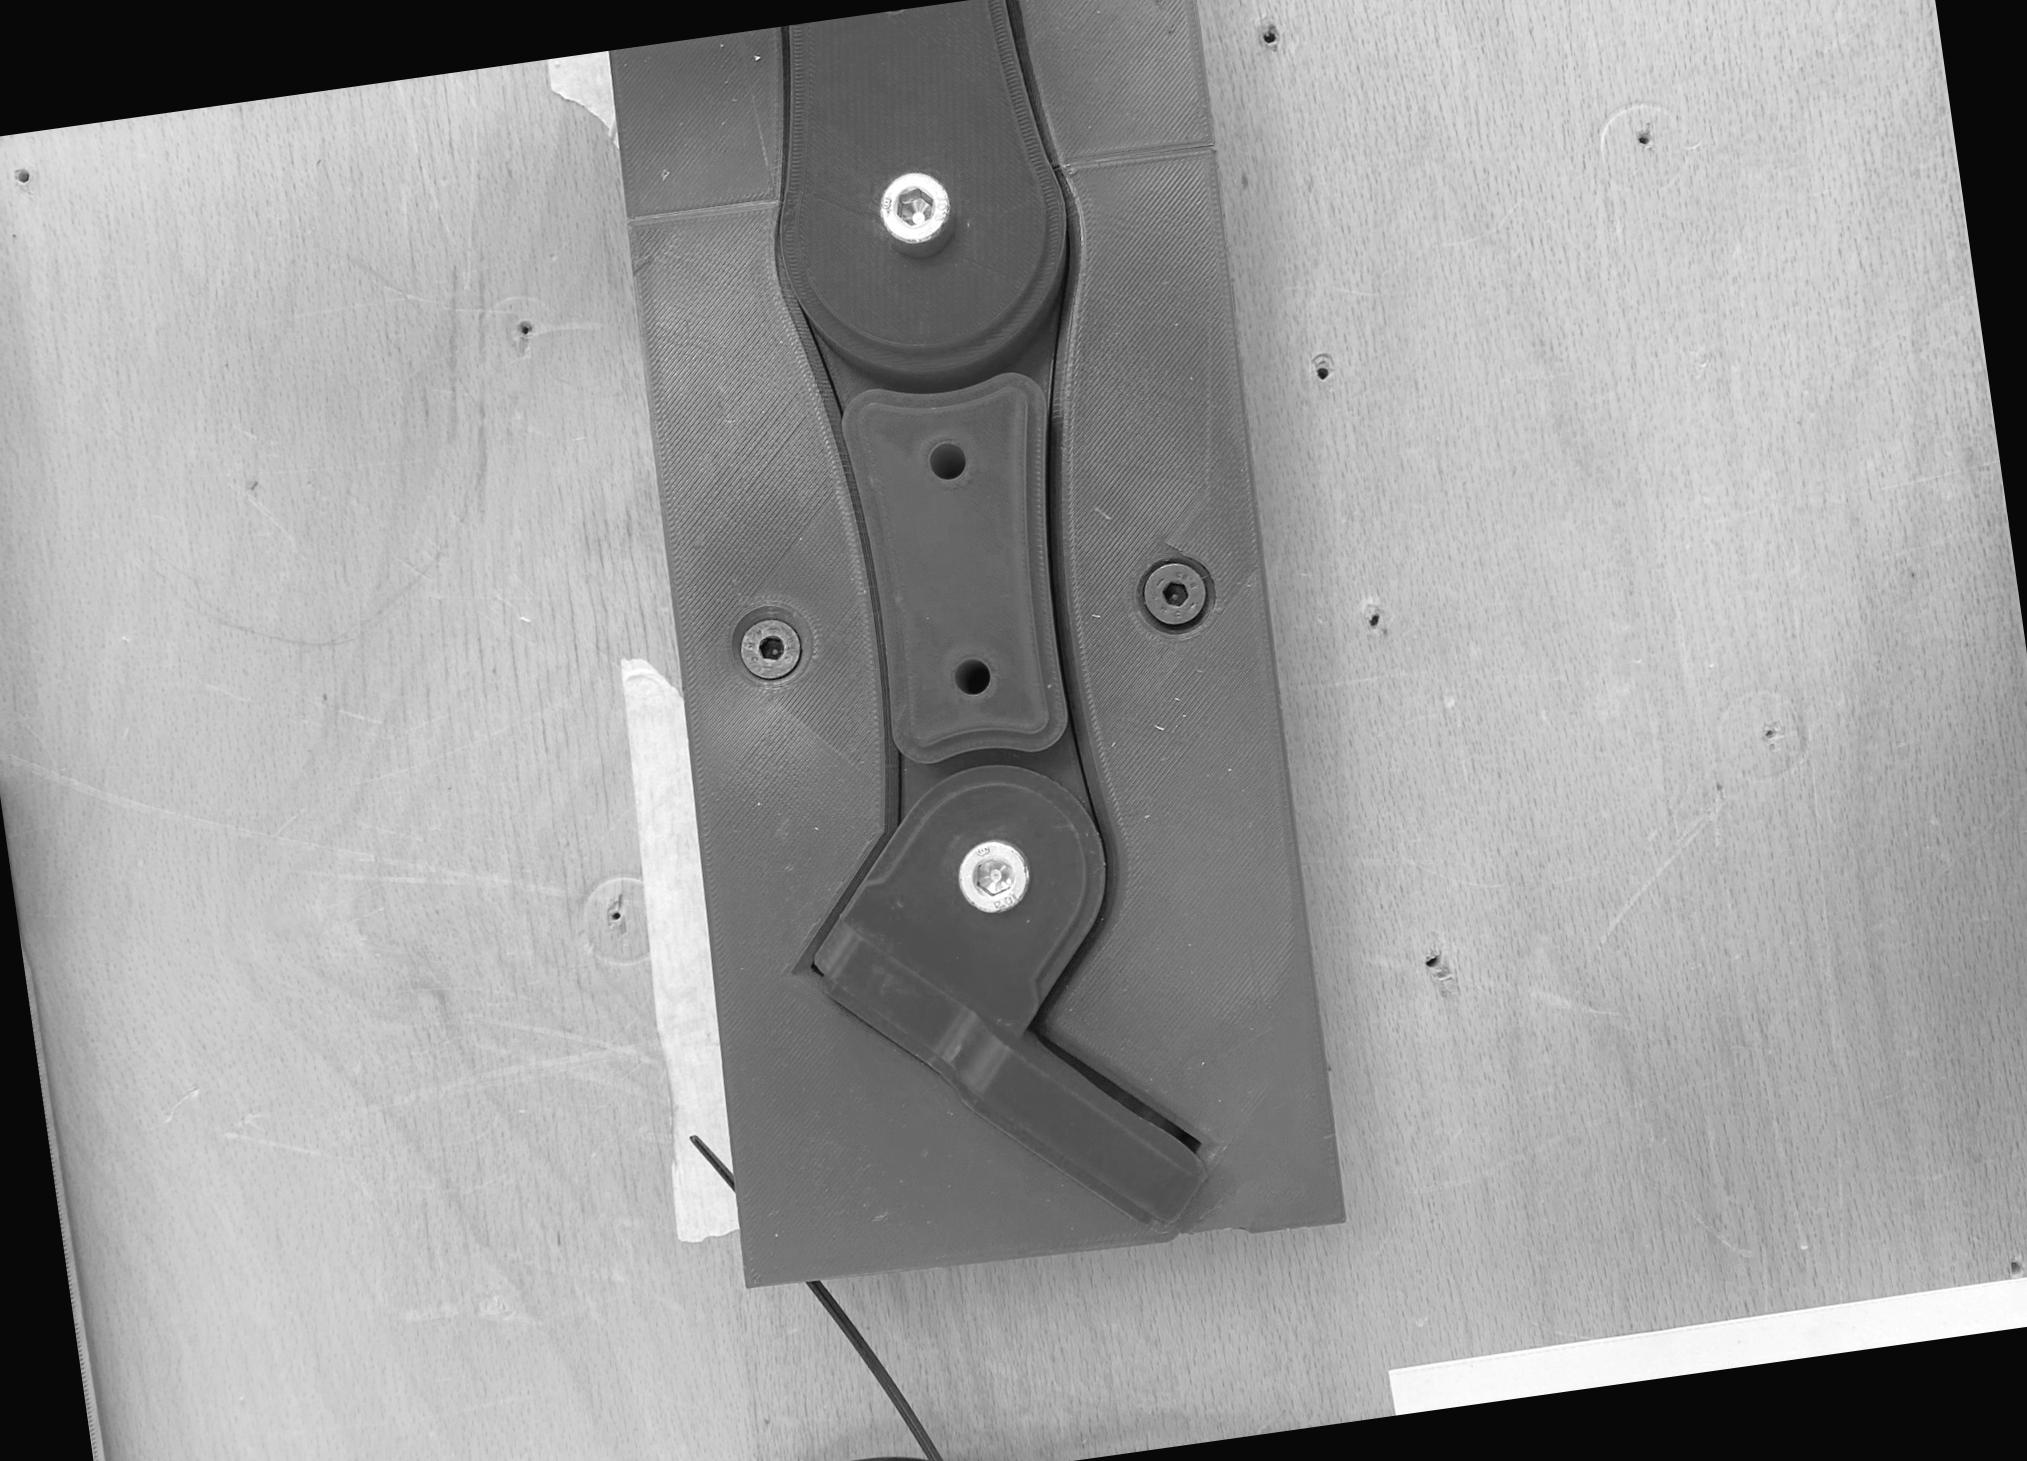screw: (954, 834, 1032, 915), (875, 168, 954, 242), (733, 614, 806, 683), (1141, 557, 1210, 630)
